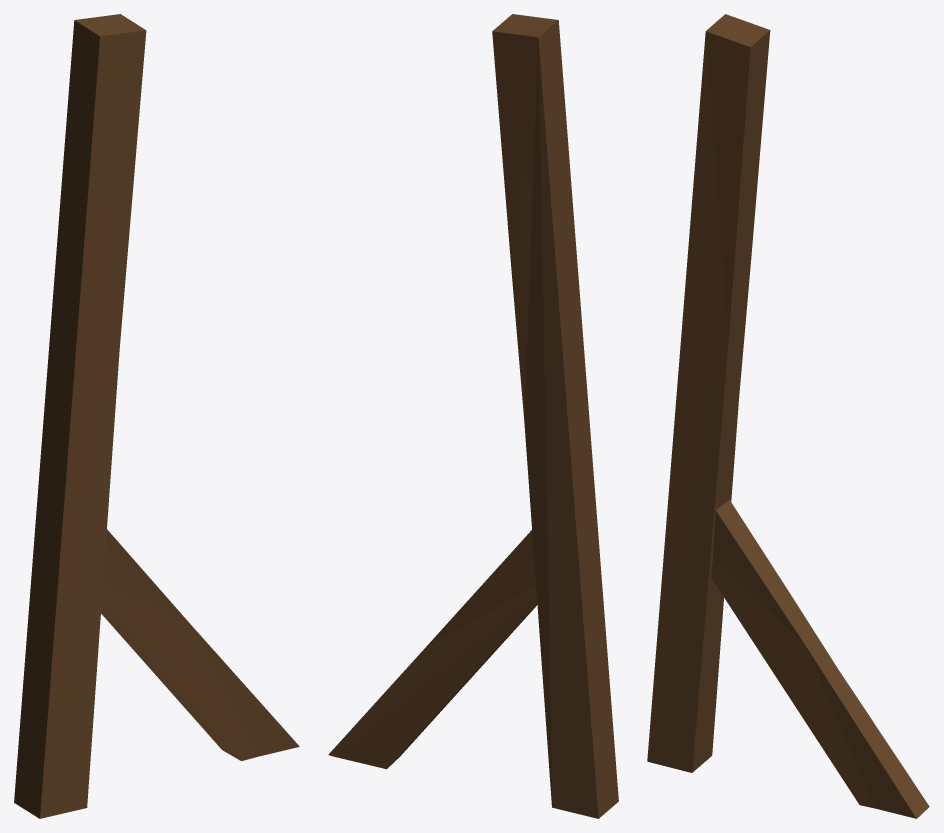
File: Timber_Support_Beam_01.fbx
3 renders of one model, left to right at view 1: azimuth 30°, elevation 25°; view 2: azimuth 150°, elevation 25°; view 3: azimuth 330°, elevation 25°, orthographic. The views are drawn at different scales.
Visible parts, largest first — view 1: Timber_Support_Beam_01; view 2: Timber_Support_Beam_01; view 3: Timber_Support_Beam_01.
Boxes of the visible parts, x1,y1,x2,y2 form: Timber_Support_Beam_01: (14,14,299,818); Timber_Support_Beam_01: (328,14,618,818); Timber_Support_Beam_01: (647,14,929,818).
Bounding box in the file's own units: 45.29 × 122 × 7.49.
